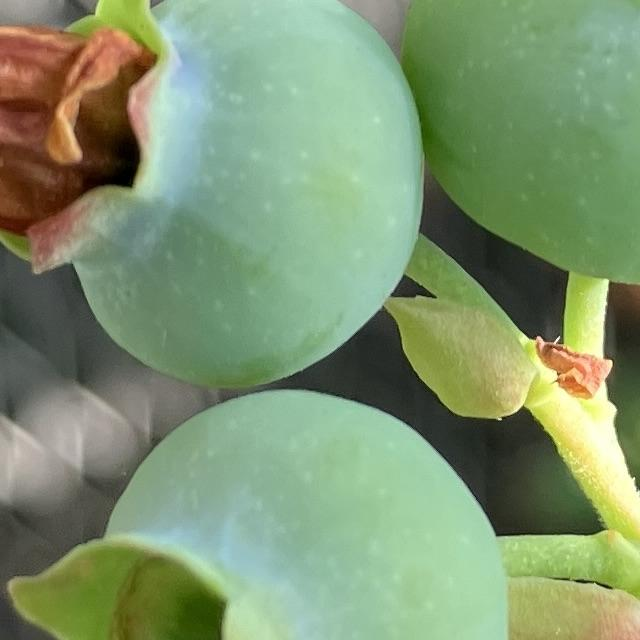Blueberries: (0, 0, 430, 390), (5, 386, 511, 640), (398, 0, 640, 285)
